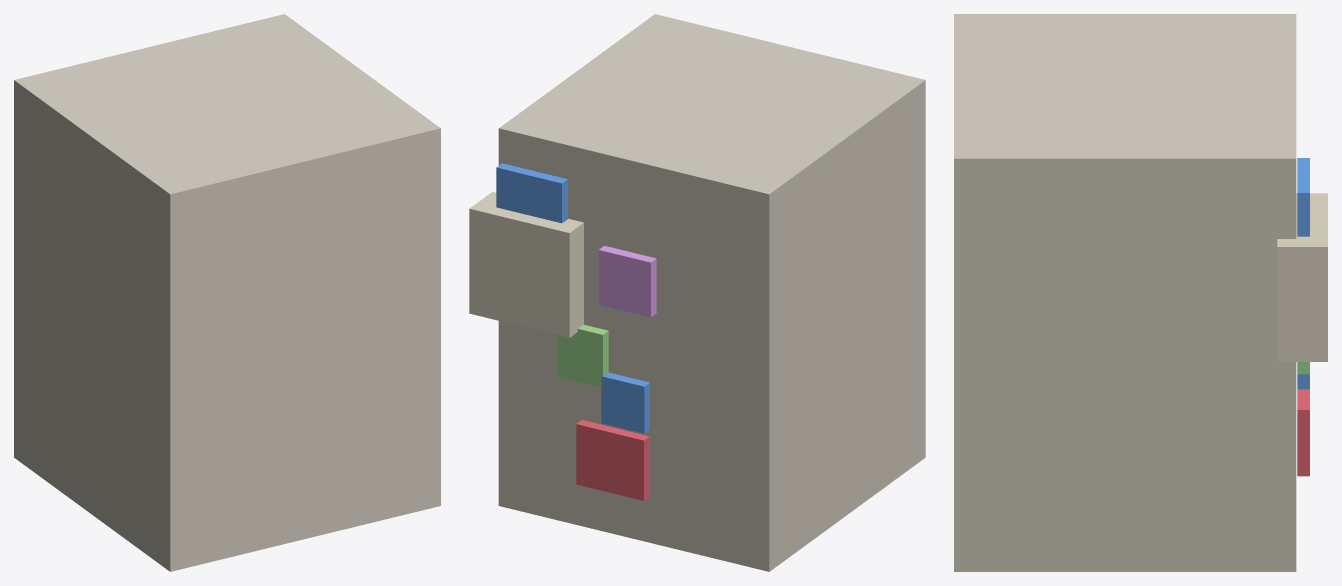
The model's file is pintor_coxa.glb.
3 renders of one model, left to right at view 1: azimuth 30°, elevation 25°; view 2: azimuth 150°, elevation 25°; view 3: azimuth 270°, elevation 25°, orthographic. The views are drawn at different scales.
Visible parts, largest first — view 1: pintor_coxa; view 2: pintor_coxa; view 3: pintor_coxa.
Part boxes in pixels (left/top/right/bottom): pintor_coxa: left=14, top=14, right=440, bottom=571; pintor_coxa: left=469, top=14, right=925, bottom=571; pintor_coxa: left=954, top=14, right=1327, bottom=571.
Size of the model in its own units: 0.285 by 0.36 by 0.295.
